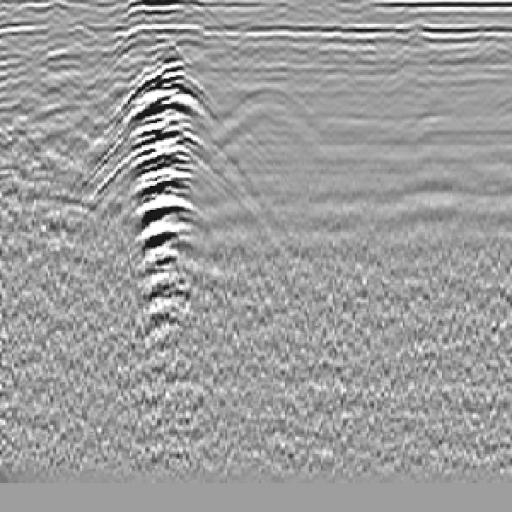metalic: (112, 42, 214, 354)
nonmetalic: (209, 80, 326, 171)
